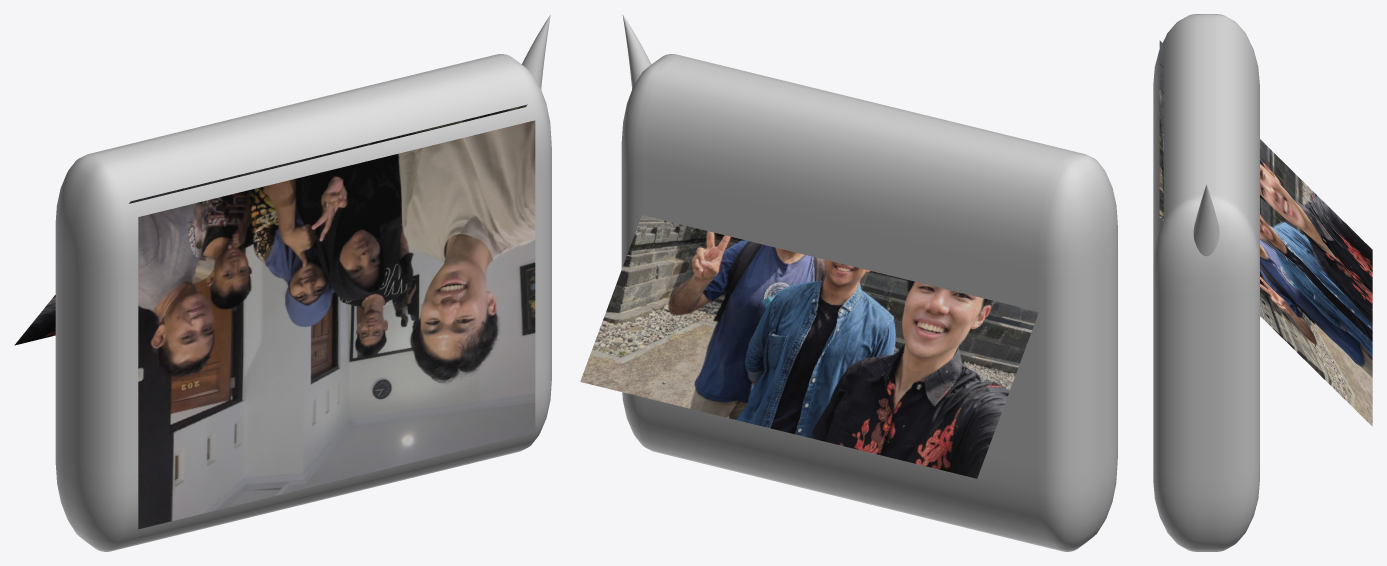
3 renders of one model, left to right at view 1: azimuth 30°, elevation 25°; view 2: azimuth 150°, elevation 25°; view 3: azimuth 270°, elevation 25°, orthographic. The views are drawn at different scales.
Parts seen in each view (by area): view 1: ho-musutei, Object_2, オランダ; view 2: Object_2, オランダ; view 3: Object_2, オランダ.
Boxes of the visible parts, bbox=[...] form: ho-musutei: bbox=[138, 120, 535, 529]; Object_2: bbox=[55, 15, 551, 551]; オランダ: bbox=[14, 104, 527, 345]; Object_2: bbox=[621, 14, 1117, 551]; オランダ: bbox=[580, 215, 1038, 478]; Object_2: bbox=[1153, 14, 1259, 551]; オランダ: bbox=[1159, 40, 1372, 426].
Size of the model in its own units: 4.04 by 3.38 by 1.8.
Materials: 3 (2 with a texture image).
